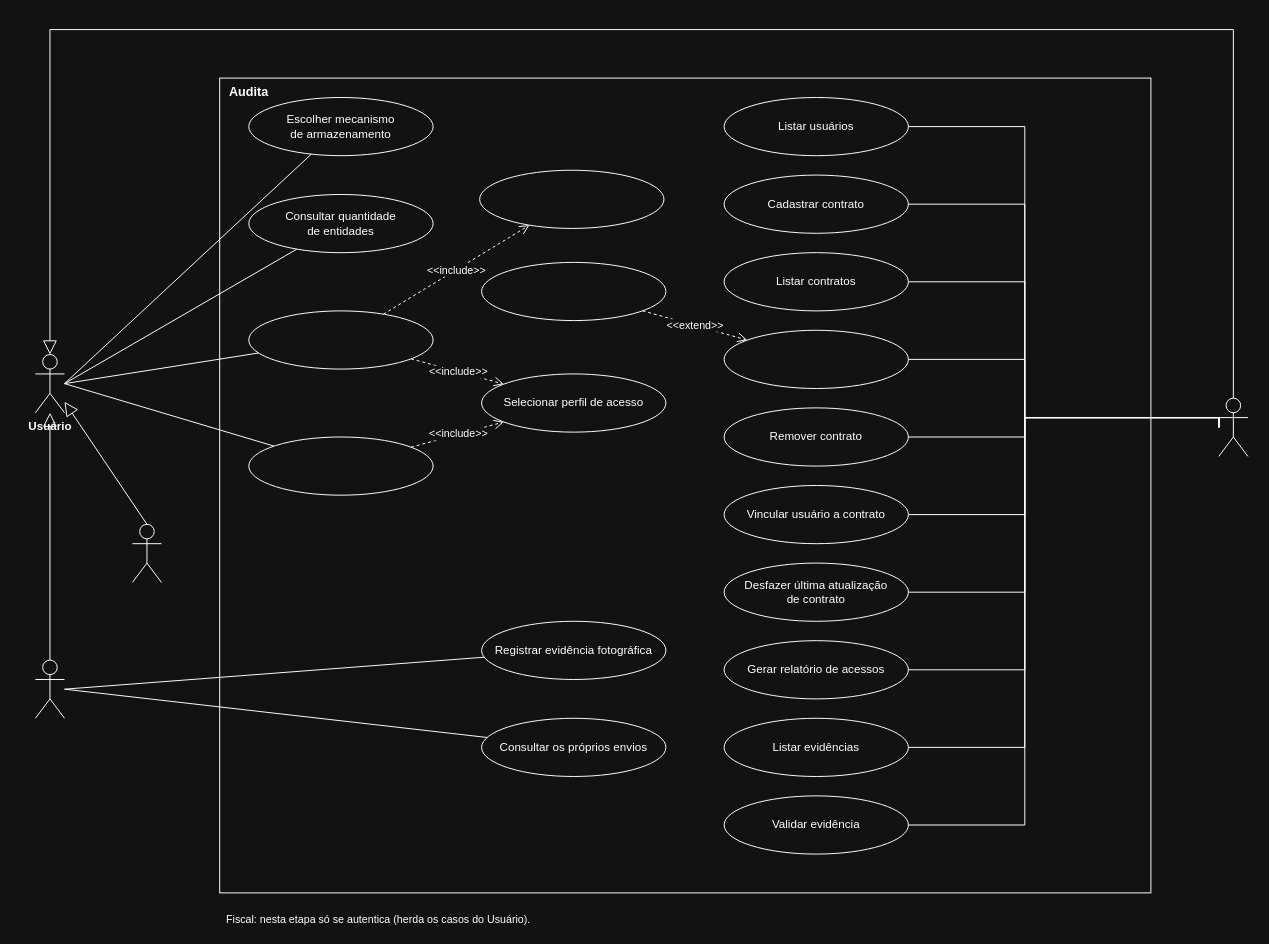
Image size: 1269x944. Some labels were removed from this diagram. The centre of each missing label's shape, as x and y in pixels:
"Aceitar Termos de Uso" belongs at (x=571, y=198).
"Cadastrar usuário" belongs at (x=340, y=339).
"Editar contrato" belongs at (x=815, y=358).
"Encerrar contrato" belongs at (x=573, y=291).
"Fazer login" belongs at (x=340, y=465).
"Fiscal" belongs at (x=146, y=552).
"Funcionário" belongs at (x=49, y=688).
"Gestor" belongs at (x=1233, y=426).
